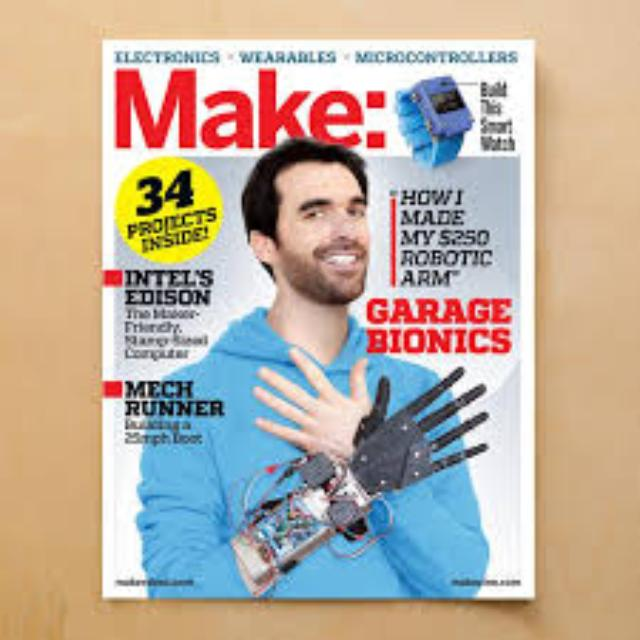cardboard paper: (100, 37, 529, 594)
